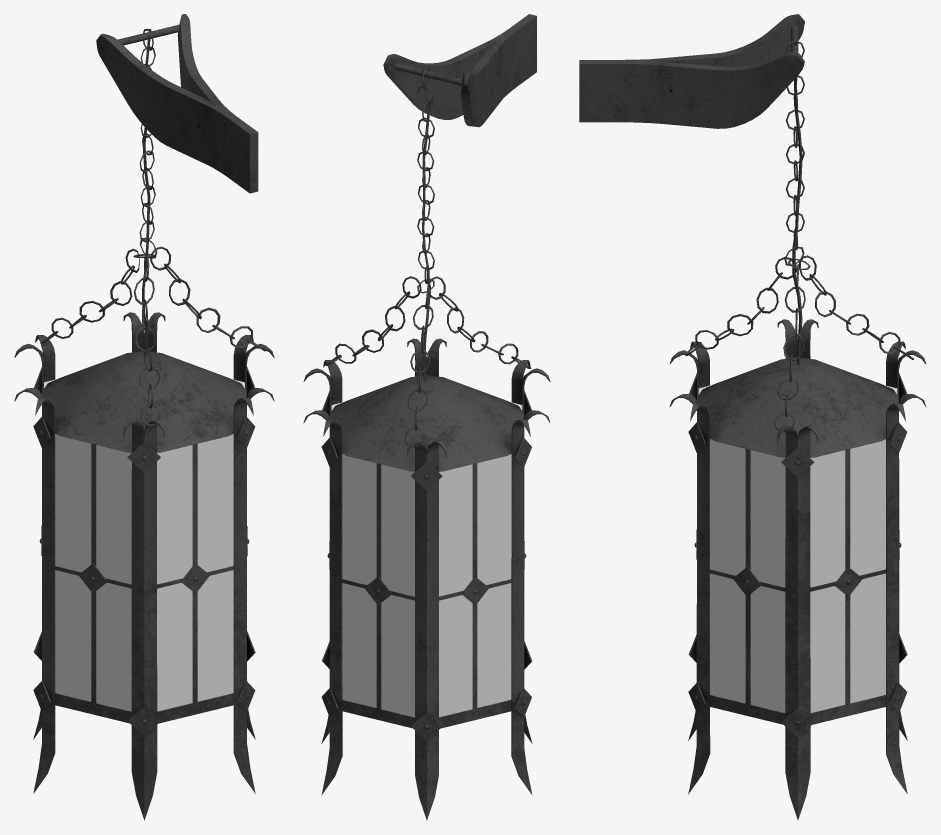
File: lamp.fbx
3 renders of one model, left to right at view 1: azimuth 30°, elevation 25°; view 2: azimuth 150°, elevation 25°; view 3: azimuth 270°, elevation 25°, orthographic. The views are drawn at different scales.
Visible parts, largest first — view 1: lamp; view 2: lamp; view 3: lamp.
Boxes of the visible parts, bbox=[...] form: lamp: bbox=[14, 14, 274, 820]; lamp: bbox=[303, 14, 550, 820]; lamp: bbox=[579, 14, 926, 820].
Size of the model in its own units: 18.34 by 54.29 by 23.31.
